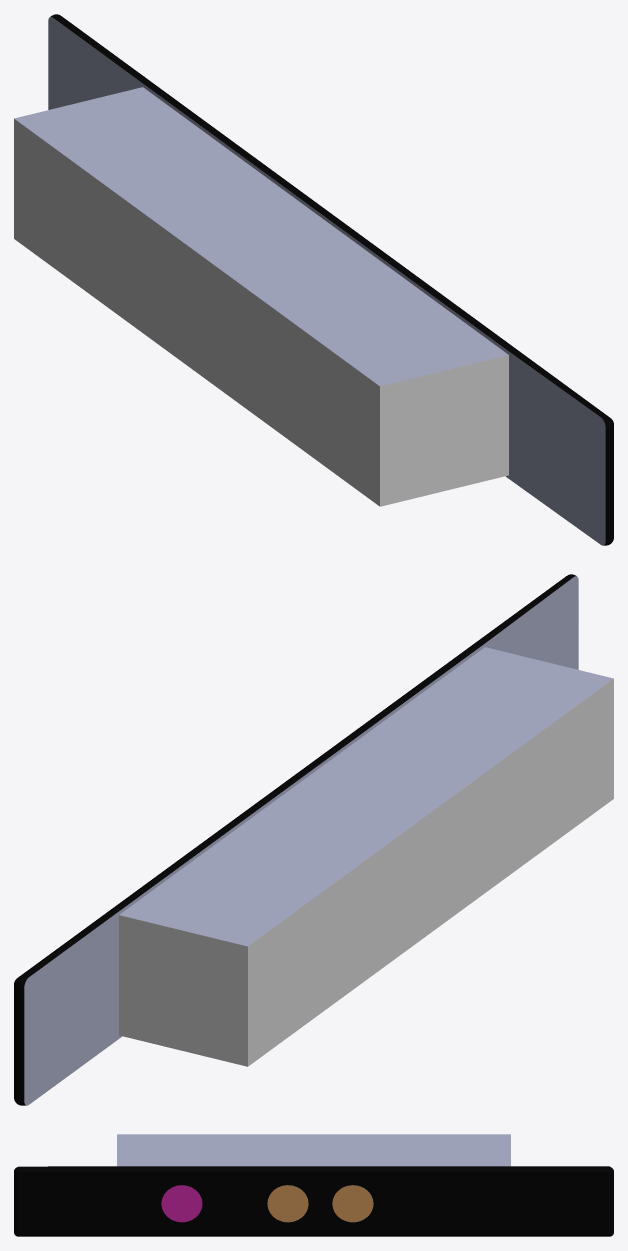
The model's file is kinect.dae.
3 views of the same model, one above another, from view 1: azimuth 30°, elevation 25°; view 2: azimuth 150°, elevation 25°; view 3: azimuth 270°, elevation 25° (orthographic). The views are drawn at different scales.
Visible parts, largest first — view 1: ShapeIndexedFaceSet_002; view 2: ShapeIndexedFaceSet_002; view 3: ShapeIndexedFaceSet_002.
Part boxes in pixels (<box>): ShapeIndexedFaceSet_002: <box>14,14,613,545</box>; ShapeIndexedFaceSet_002: <box>14,574,613,1105</box>; ShapeIndexedFaceSet_002: <box>14,1134,613,1236</box>.
Size of the model in its own units: 0.0405 by 0.2772 by 0.035.
